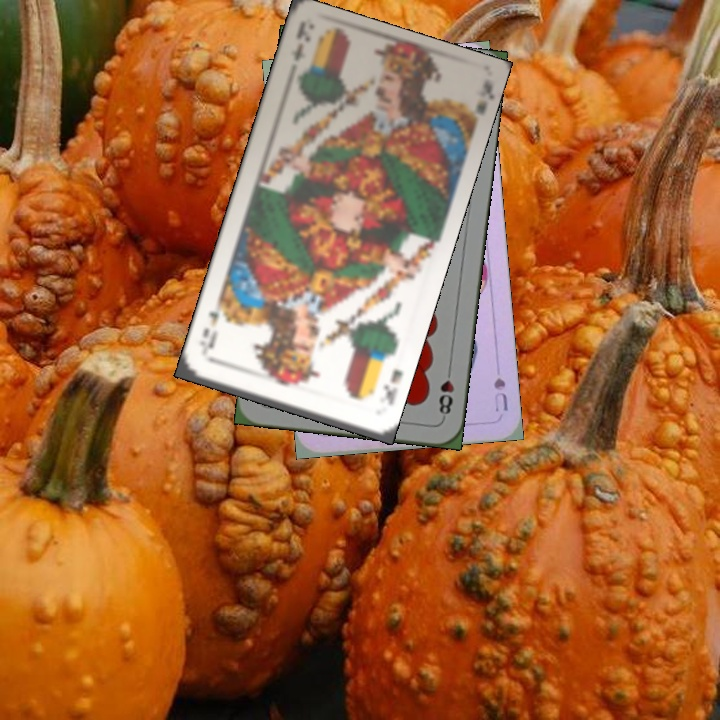EK: (378, 365, 405, 408), (288, 22, 314, 64)
H8: (435, 362, 457, 421)
SU: (489, 374, 511, 414)
